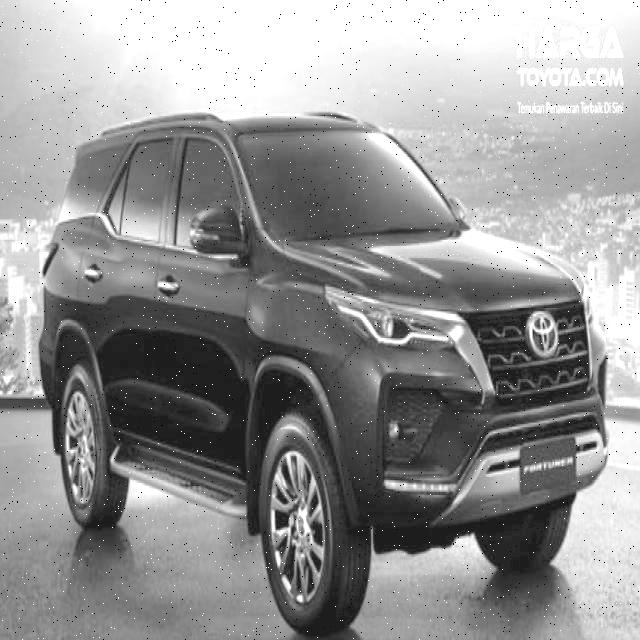Car: (36, 104, 618, 619)
